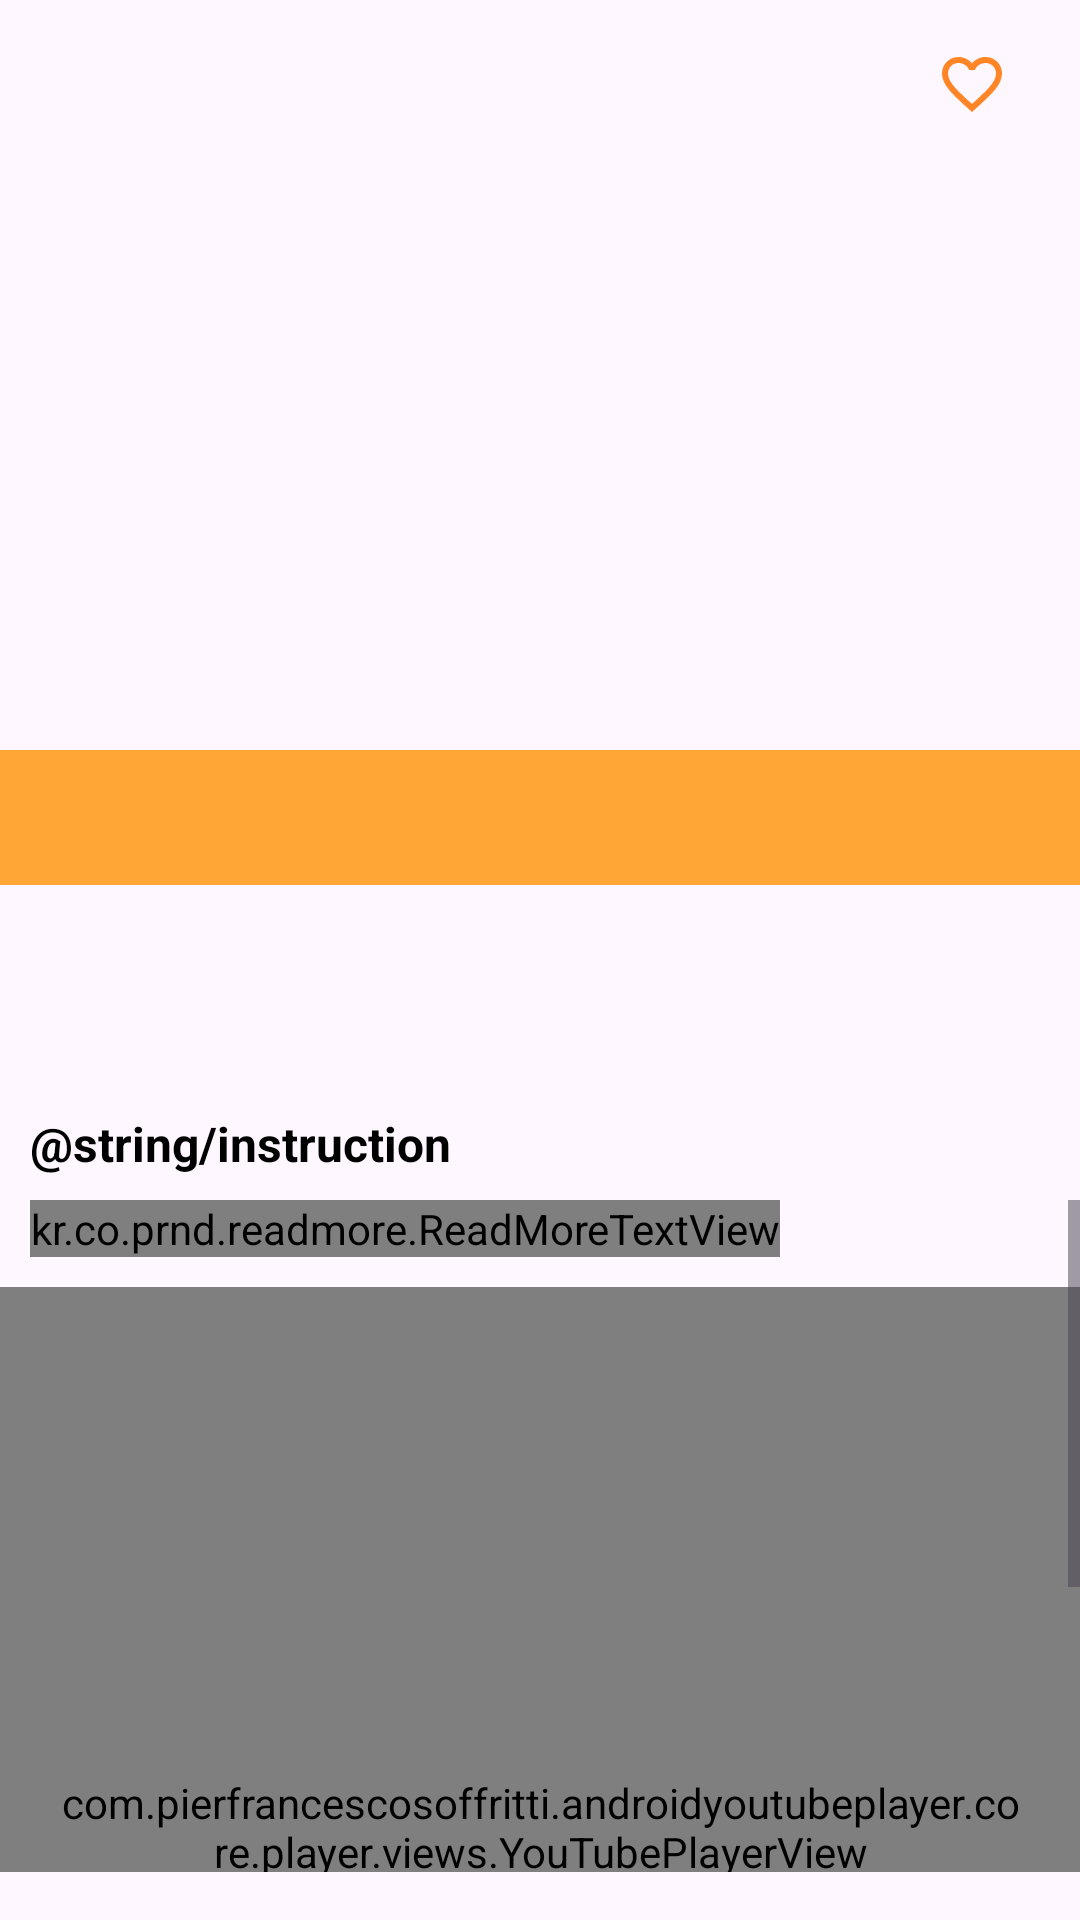

Icons on this 1080 × 1920 Android screen, each with the point to tap as (x,y):
fav sl: (972,84)
